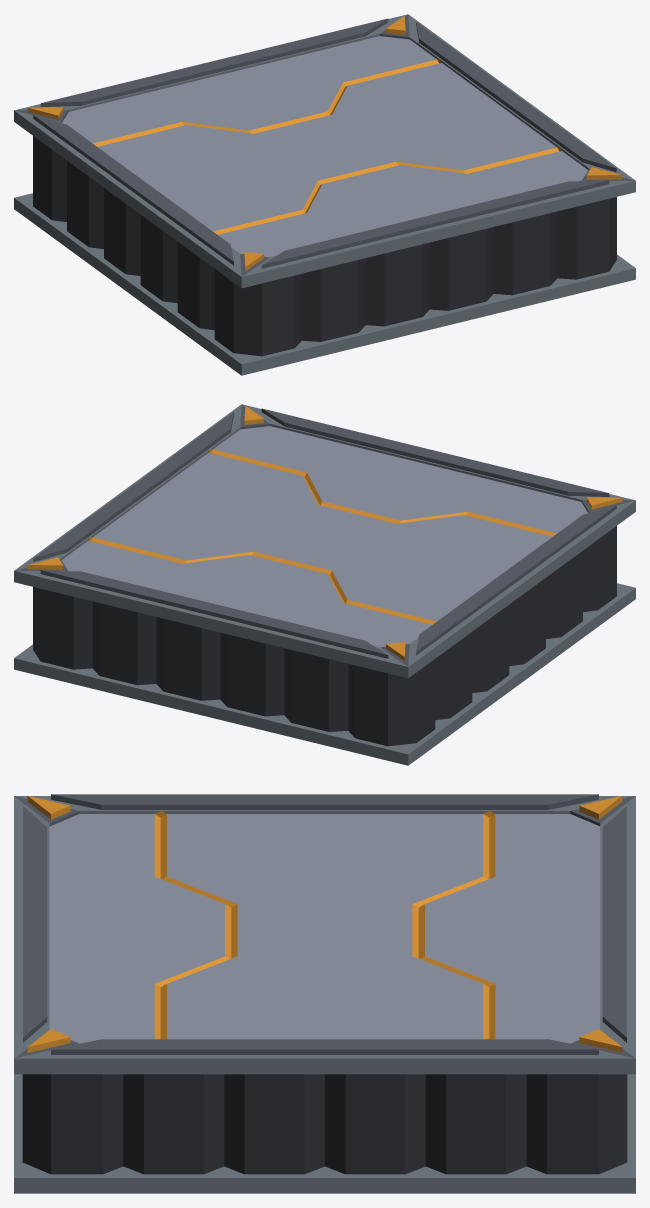
File: SM_Platform_1.glb
3 renders of one model, top to bottom at view 1: azimuth 30°, elevation 25°; view 2: azimuth 150°, elevation 25°; view 3: azimuth 270°, elevation 25°, orthographic. The views are drawn at different scales.
Visible parts, largest first — view 1: SM_Platform_1; view 2: SM_Platform_1; view 3: SM_Platform_1.
Boxes of the visible parts, x1,y1,x2,y2 form: SM_Platform_1: (14, 14, 635, 375); SM_Platform_1: (14, 404, 635, 765); SM_Platform_1: (14, 794, 635, 1193).
Size of the model in its own units: 4 by 0.9988 by 4.
Materials: 1 (1 with a texture image).
